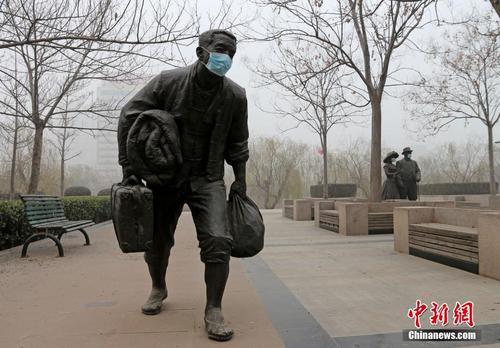yes_mask: (192, 29, 238, 80)
